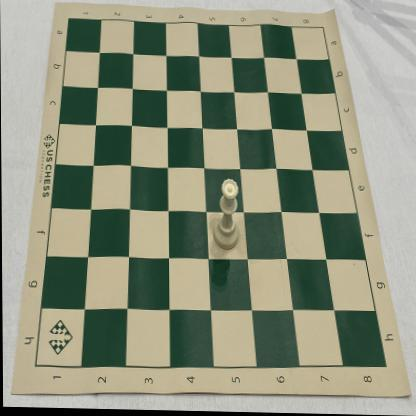white-queen: (212, 178, 239, 251)
